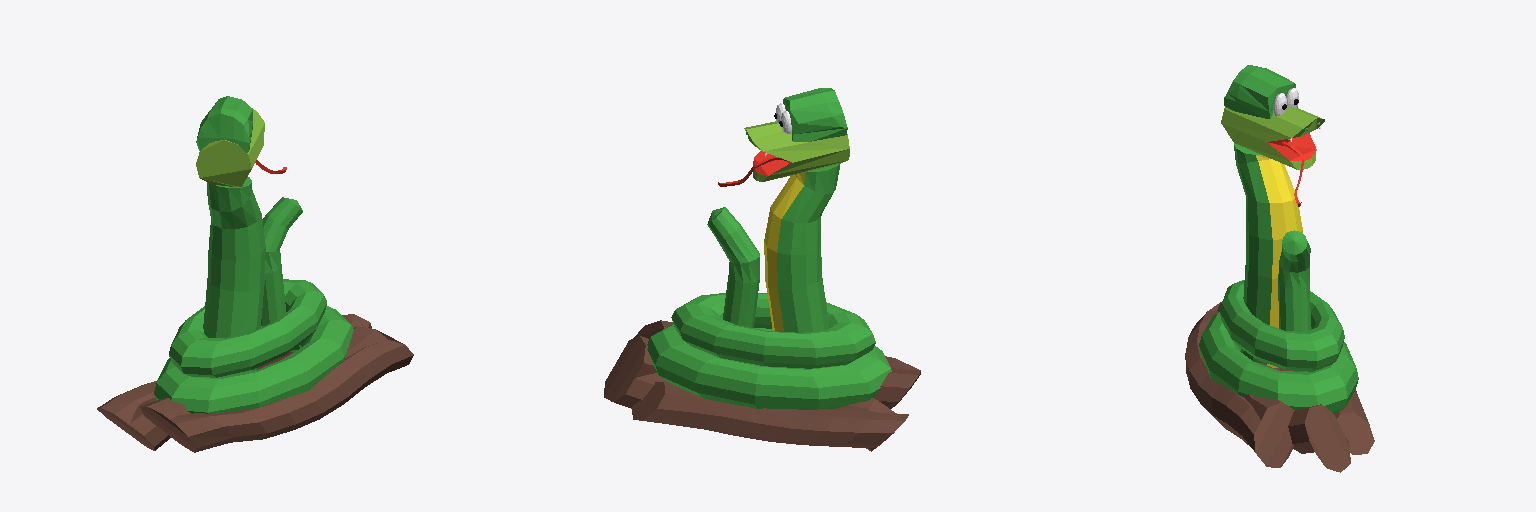
The picture shows the model from 3 angles: view 1: azimuth 30°, elevation 25°; view 2: azimuth 150°, elevation 25°; view 3: azimuth 270°, elevation 25°; orthographic projection.
Visible parts, largest first — view 1: group[number redacted], group[number redacted]; view 2: group[number redacted], group[number redacted]; view 3: group[number redacted], group[number redacted].
Part boxes in pixels (bbox=[...]): group[number redacted]: bbox=[154, 96, 353, 413]; group[number redacted]: bbox=[97, 314, 413, 452]; group[number redacted]: bbox=[647, 88, 891, 409]; group[number redacted]: bbox=[604, 320, 920, 451]; group[number redacted]: bbox=[1199, 65, 1358, 413]; group[number redacted]: bbox=[1185, 302, 1374, 472].
Size of the model in its own units: 1.38 by 1.5 by 0.7735.